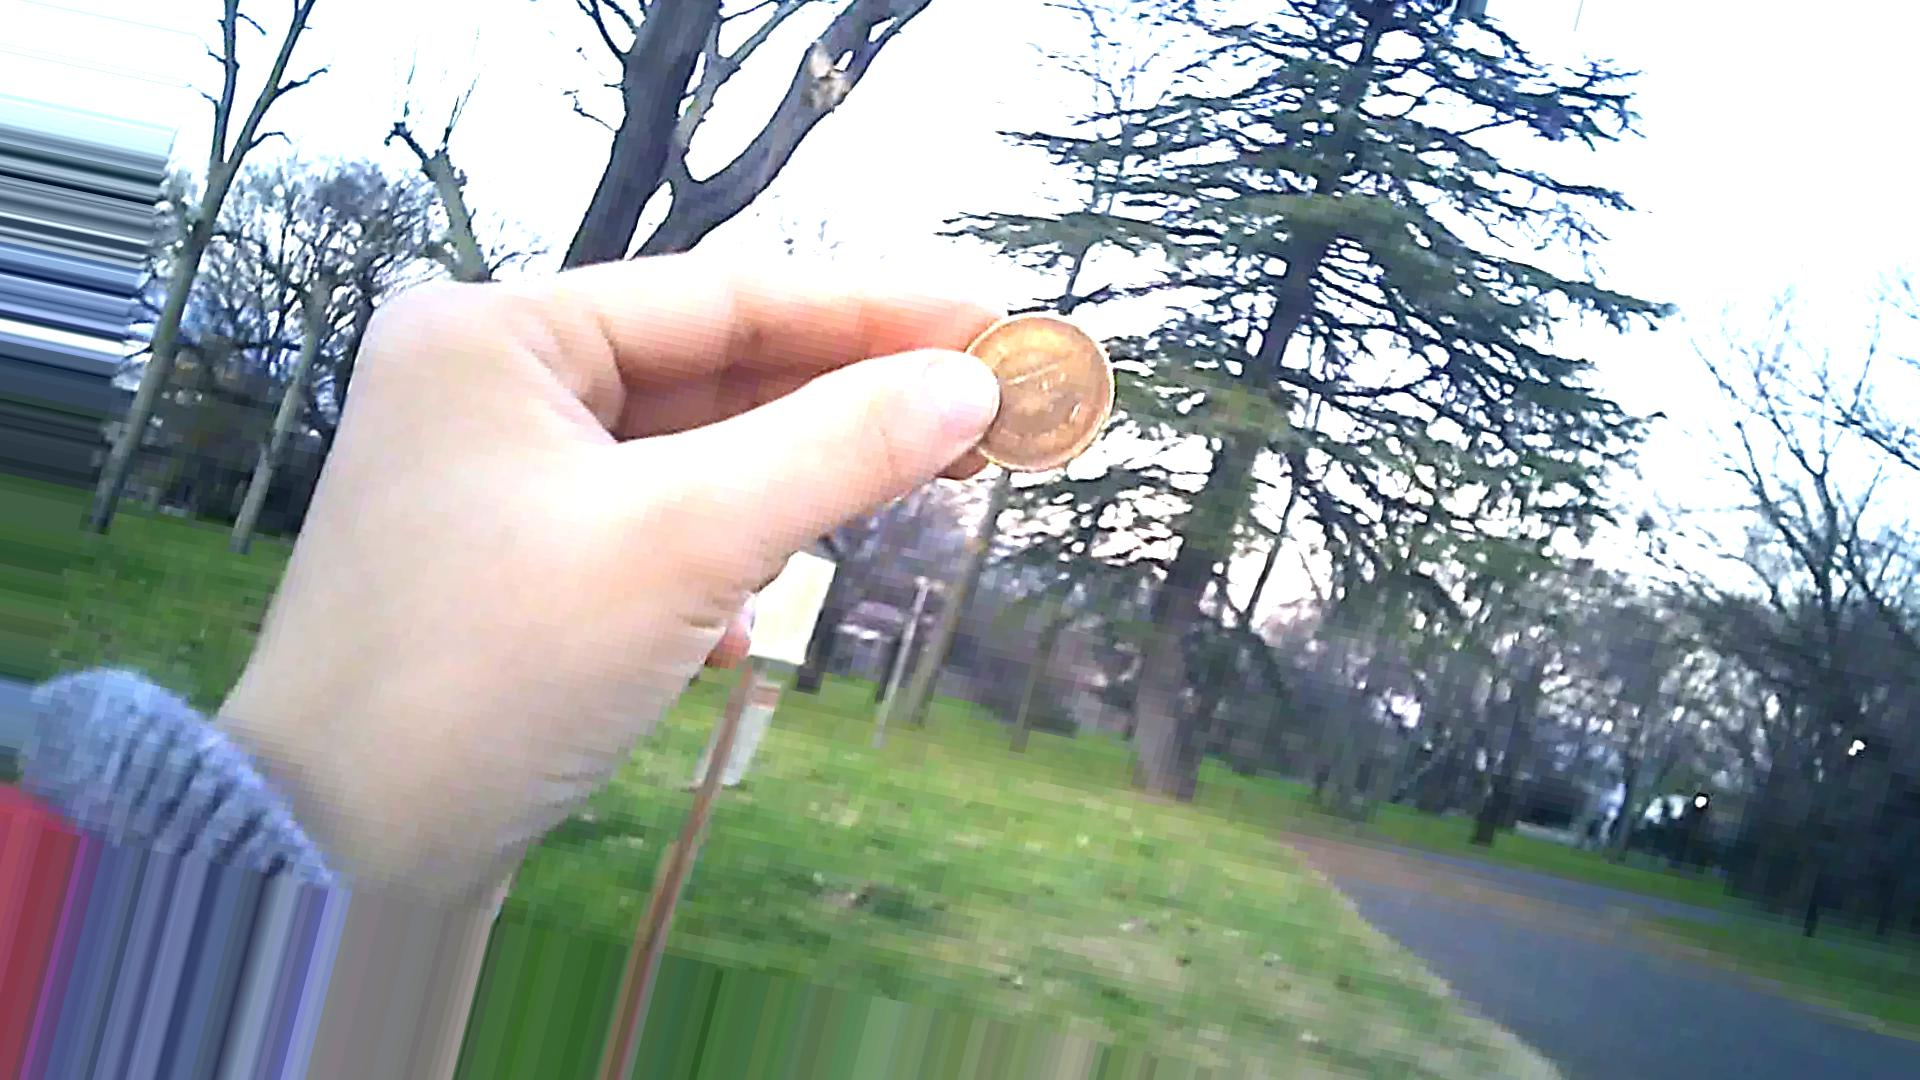10 Yen: (960, 299, 1131, 483)
